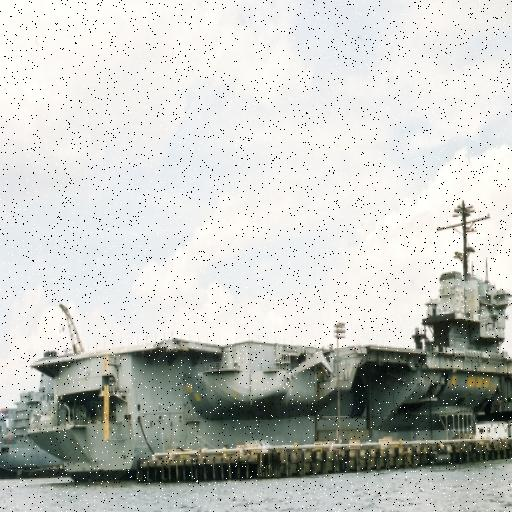Portanaves: (23, 192, 512, 494)
